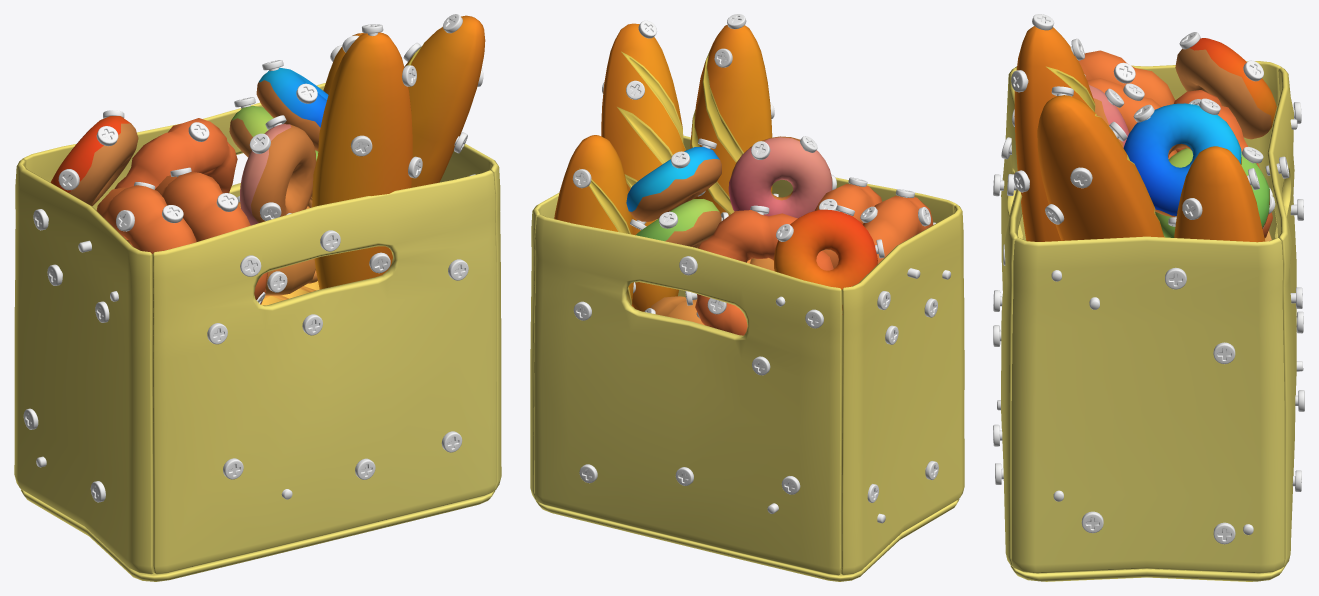
The picture shows the model from 3 angles, left to right: view 1: azimuth 30°, elevation 25°; view 2: azimuth 150°, elevation 25°; view 3: azimuth 270°, elevation 25°; orthographic projection. The views are drawn at different scales.
Visible parts, largest first — view 1: Cube_L1 1.003, Cube_L1.003, Cube_L2 14.001, Cube_L2 20.001, Cube_L2 8.001, Cube_L2 7.001, Cube_L2 2.001, Cube_L2 1.001, Cube_L2 5.001, Cube_L1 2.003, Cube_L1 3.003, Cube_L2 16.001 (+3 smaller); view 2: Cube_L1 4.003, Cube_L1.003, Cube_L2 20.001, Cube_L2 14.001, Cube_L2 8.001, Cube_L2 2.001, Cube_L2 21.001, Cube_L2 7.001, Cube_L2 16.001, Cube_L1 2.003, Cube_L2 1.001, Cube_L2 13.001 (+4 smaller); view 3: Cube_L1 3.003, Cube_L2 20.001, Cube_L2 14.001, Cube_L1 4.003, Cube_L2 16.001, Cube_L2 21.001, Cube_L2 2.001, Cube_L1 1.003, Cube_L1 2.003, Cube_L1.003, Cube_L2 1.001, Cube_L2 13.001 (+3 smaller).
Boxes of the visible parts, left/top/right/bottom form: Cube_L1 1.003: left=152, top=170, right=496, bottom=574; Cube_L1.003: left=14, top=159, right=153, bottom=574; Cube_L2 14.001: left=312, top=32, right=412, bottom=289; Cube_L2 20.001: left=404, top=15, right=485, bottom=187; Cube_L2 8.001: left=240, top=124, right=316, bottom=225; Cube_L2 7.001: left=114, top=118, right=237, bottom=193; Cube_L2 2.001: left=50, top=116, right=138, bottom=205; Cube_L2 1.001: left=96, top=185, right=196, bottom=253; Cube_L2 5.001: left=155, top=171, right=267, bottom=304; Cube_L1 2.003: left=21, top=489, right=495, bottom=581; Cube_L1 3.003: left=439, top=143, right=501, bottom=490; Cube_L2 16.001: left=256, top=67, right=328, bottom=151; Cube_L1 4.003: left=534, top=214, right=842, bottom=575; Cube_L1.003: left=841, top=204, right=964, bottom=575; Cube_L2 20.001: left=601, top=23, right=685, bottom=311; Cube_L2 14.001: left=690, top=25, right=772, bottom=215; Cube_L2 8.001: left=728, top=136, right=832, bottom=218; Cube_L2 2.001: left=773, top=209, right=877, bottom=309; Cube_L2 21.001: left=554, top=135, right=633, bottom=305; Cube_L2 7.001: left=695, top=210, right=833, bottom=335; Cube_L2 16.001: left=626, top=147, right=721, bottom=221; Cube_L1 2.003: left=535, top=499, right=959, bottom=581; Cube_L2 1.001: left=842, top=195, right=933, bottom=314; Cube_L2 13.001: left=635, top=199, right=721, bottom=247; Cube_L1 3.003: left=1011, top=236, right=1284, bottom=573; Cube_L2 20.001: left=1037, top=95, right=1164, bottom=240; Cube_L2 14.001: left=1014, top=26, right=1095, bottom=241; Cube_L1 4.003: left=1267, top=67, right=1296, bottom=567; Cube_L2 16.001: left=1123, top=103, right=1241, bottom=217; Cube_L2 21.001: left=1174, top=146, right=1265, bottom=242; Cube_L2 2.001: left=1175, top=38, right=1276, bottom=139; Cube_L1 1.003: left=1001, top=67, right=1022, bottom=566; Cube_L1 2.003: left=1010, top=565, right=1285, bottom=581; Cube_L1.003: left=1015, top=61, right=1281, bottom=240; Cube_L2 1.001: left=1078, top=50, right=1175, bottom=106; Cube_L2 13.001: left=1155, top=148, right=1269, bottom=237.
Size of the model in its own units: 8.63 by 10.95 by 5.96.
